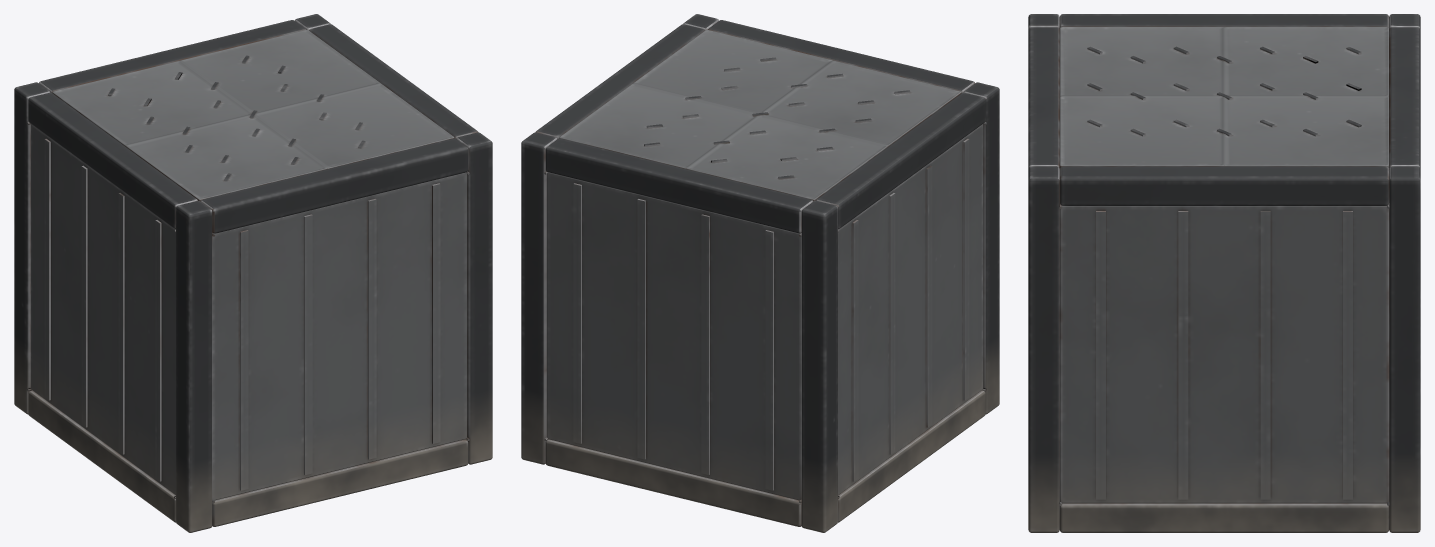
Rendered from SM_Foundation2m.glb.
3 renders of one model, left to right at view 1: azimuth 30°, elevation 25°; view 2: azimuth 150°, elevation 25°; view 3: azimuth 270°, elevation 25°, orthographic. The views are drawn at different scales.
Parts seen in each view (by area): view 1: SM_Foundation2m; view 2: SM_Foundation2m; view 3: SM_Foundation2m.
Part boxes in pixels (x1,y1,x2,y2): SM_Foundation2m: (14, 14, 492, 532); SM_Foundation2m: (521, 14, 999, 532); SM_Foundation2m: (1028, 14, 1420, 532).
Bounding box in the file's own units: 2 × 2 × 2.
3 materials, 3 textured.
